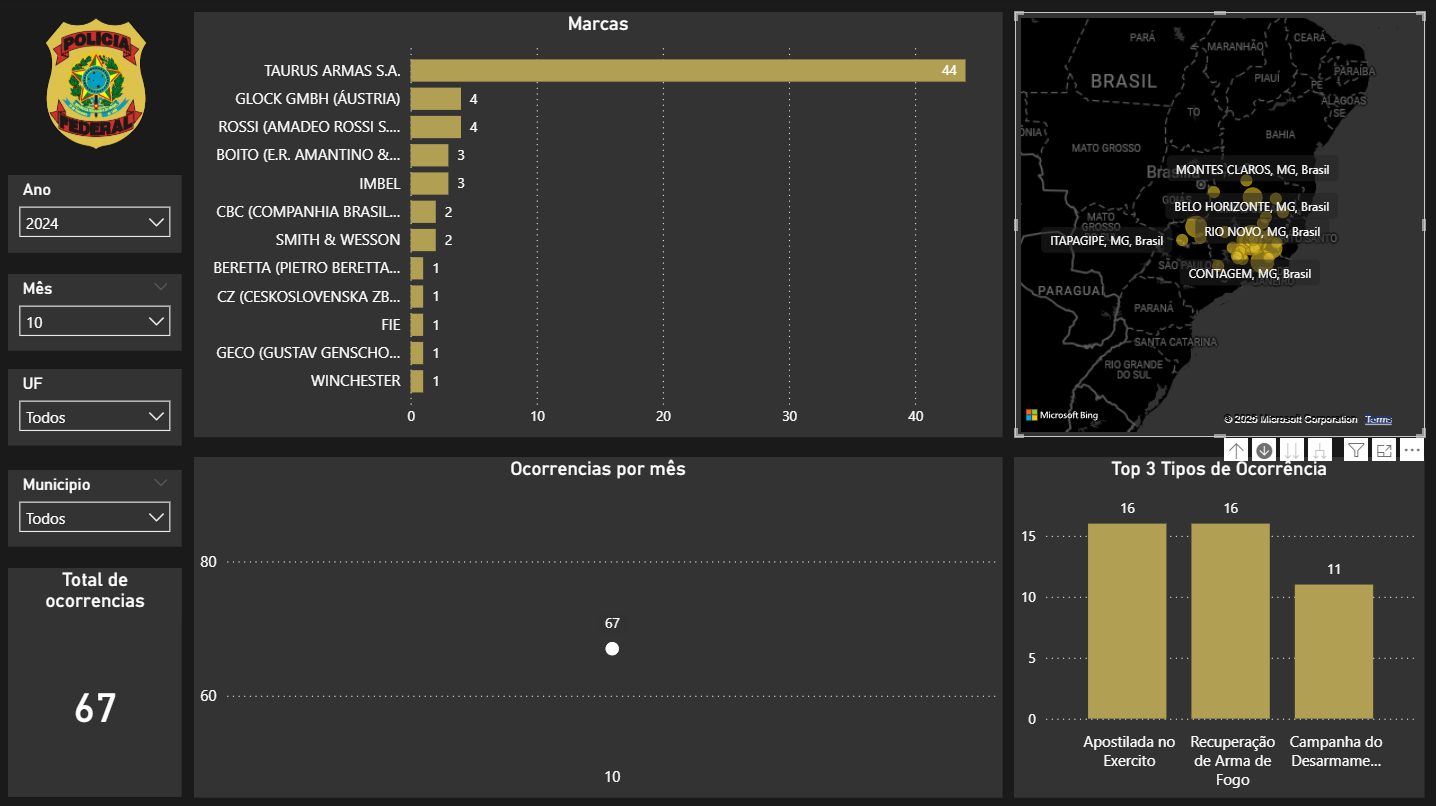

What the dashboard file says about the page in this screenshot:
{"tool":"powerbi","page":{"name":"Analise","canvas":[1280,720],"ordinal":0},"visuals":[{"type":"slicer","fields":{"Values":["OCORRENCIAS.MES"]},"box":[10,244.4,154.4,67.8],"z":0},{"type":"image","box":[21.1,12.2,132.2,126.7],"z":1000},{"type":"map","title":"Estados","fields":{"Category":["OCORRENCIAS.LocalizacaoCompleta","OCORRENCIAS.MUNICIPIO"],"Size":["Sum(OCORRENCIAS.TOTAL)"]},"box":[902.4,12.3,364.2,376.6],"z":2000},{"type":"slicer","fields":{"Values":["OCORRENCIAS.ANO"]},"box":[10,156.7,154.4,68.9],"z":3000},{"type":"lineChart","title":"Ocorrencias por mês","fields":{"Category":["OCORRENCIAS.MES"],"Y":["Sum(OCORRENCIAS.TOTAL)"]},"box":[174.4,406.7,716.7,302.2],"z":4000},{"type":"slicer","fields":{"Values":["OCORRENCIAS.UF"]},"box":[10,328.9,154.4,67.8],"z":5000},{"type":"slicer","fields":{"Values":["OCORRENCIAS.MUNICIPIO"]},"box":[10,418.9,154.4,67.8],"z":6000},{"type":"card","title":"Total de ocorrencias","fields":{"Values":["Sum(OCORRENCIAS.TOTAL)"]},"box":[10,505.6,154.4,203.3],"z":8000},{"type":"clusteredColumnChart","title":"Top 3 Tipos de Ocorrência","fields":{"Y":["Sum(OCORRENCIAS.TOTAL)"],"Category":["OCORRENCIAS.TIPO_OCORRENCIA"]},"box":[902,407,364,302],"z":9000},{"type":"clusteredBarChart","title":"Marcas","fields":{"Category":["OCORRENCIAS.MARCA","OCORRENCIAS.ESPECIE_ARMA"],"Y":["Sum(OCORRENCIAS.TOTAL)"]},"box":[174.4,12.2,716.7,376.7],"z":9002}]}

Visuals, with their boxes in screenshot pixels (x1, y1, x2, y2), scaled from the page's 1280x720 canvas onto the 1436x806 screenshot:
slicer - OCORRENCIAS.MES: rect(11, 274, 184, 349)
image: rect(24, 14, 172, 155)
"Estados" map: rect(1012, 14, 1421, 435)
slicer - OCORRENCIAS.ANO: rect(11, 175, 184, 253)
"Ocorrencias por mês" lineChart: rect(196, 455, 1000, 794)
slicer - OCORRENCIAS.UF: rect(11, 368, 184, 444)
slicer - OCORRENCIAS.MUNICIPIO: rect(11, 469, 184, 545)
"Total de ocorrencias" card: rect(11, 566, 184, 794)
"Top 3 Tipos de Ocorrência" clusteredColumnChart: rect(1012, 456, 1420, 794)
"Marcas" clusteredBarChart: rect(196, 14, 1000, 435)
